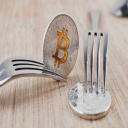fork: (81, 5, 111, 95)
